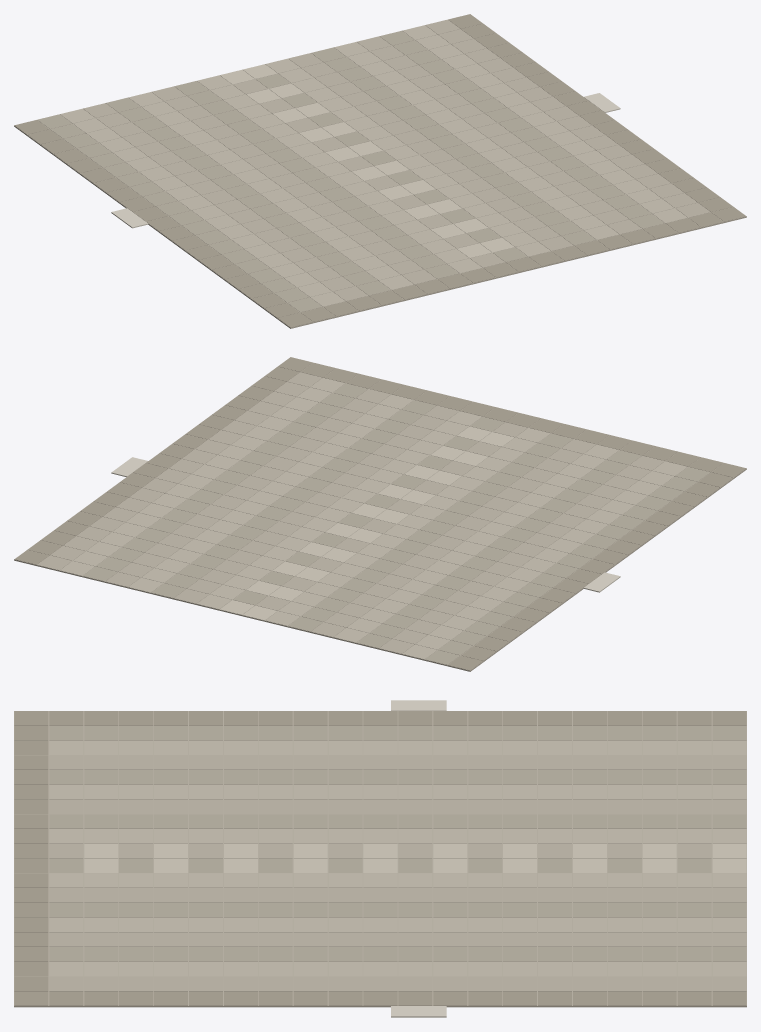
The model's file is Plaza_Paving_0.glb.
3 renders of one model, top to bottom at view 1: azimuth 30°, elevation 25°; view 2: azimuth 150°, elevation 25°; view 3: azimuth 270°, elevation 25°, orthographic. The views are drawn at different scales.
Visible parts, largest first — view 1: Plaza_Paving_0; view 2: Plaza_Paving_0; view 3: Plaza_Paving_0.
Part boxes in pixels (x1,y1,x2,y2): Plaza_Paving_0: (14, 14, 746, 328); Plaza_Paving_0: (14, 357, 746, 671); Plaza_Paving_0: (14, 700, 746, 1017).
Bounding box in the file's own units: 214 × 0.52 × 210.
Materials: 1 (1 with a texture image).
